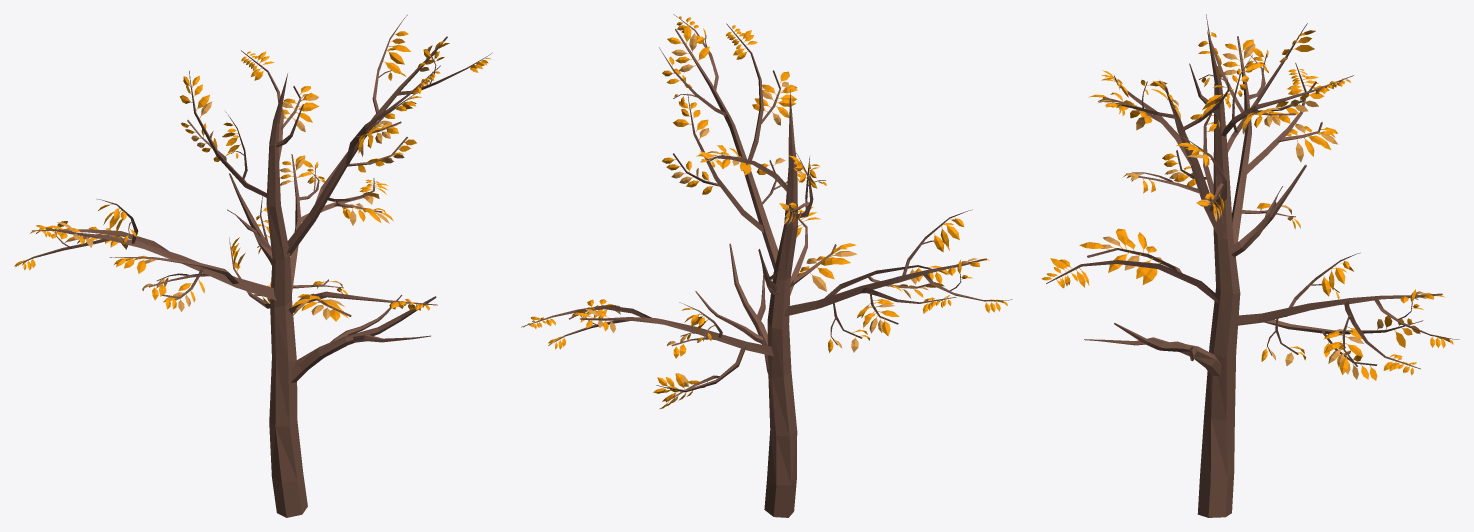
File: fall_tree.glb
3 renders of one model, left to right at view 1: azimuth 30°, elevation 25°; view 2: azimuth 150°, elevation 25°; view 3: azimuth 270°, elevation 25°, orthographic. The views are drawn at different scales.
Parts seen in each view (by area): view 1: Node; view 2: Node; view 3: Node.
Boxes of the visible parts, box(x1,y1,x2,y2) form: Node: box(14, 14, 492, 517); Node: box(521, 14, 1012, 517); Node: box(1041, 14, 1459, 517).
Bounding box in the file's own units: 5.85 × 5.91 × 4.44.
